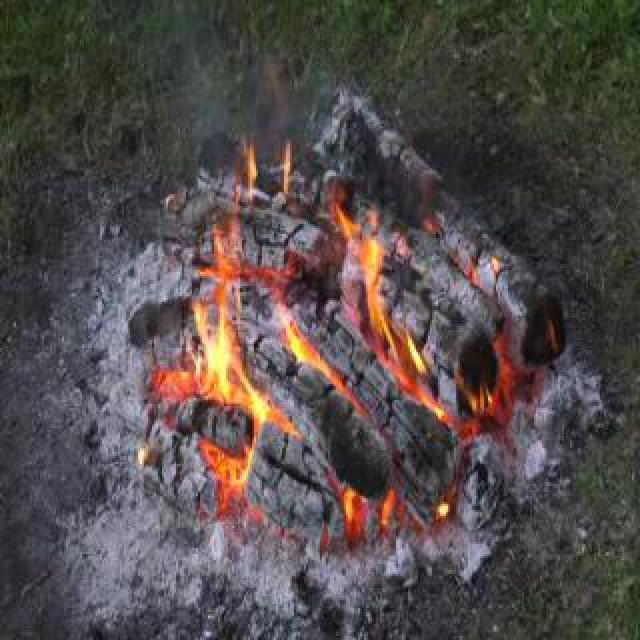Fire: (132, 130, 456, 570)
